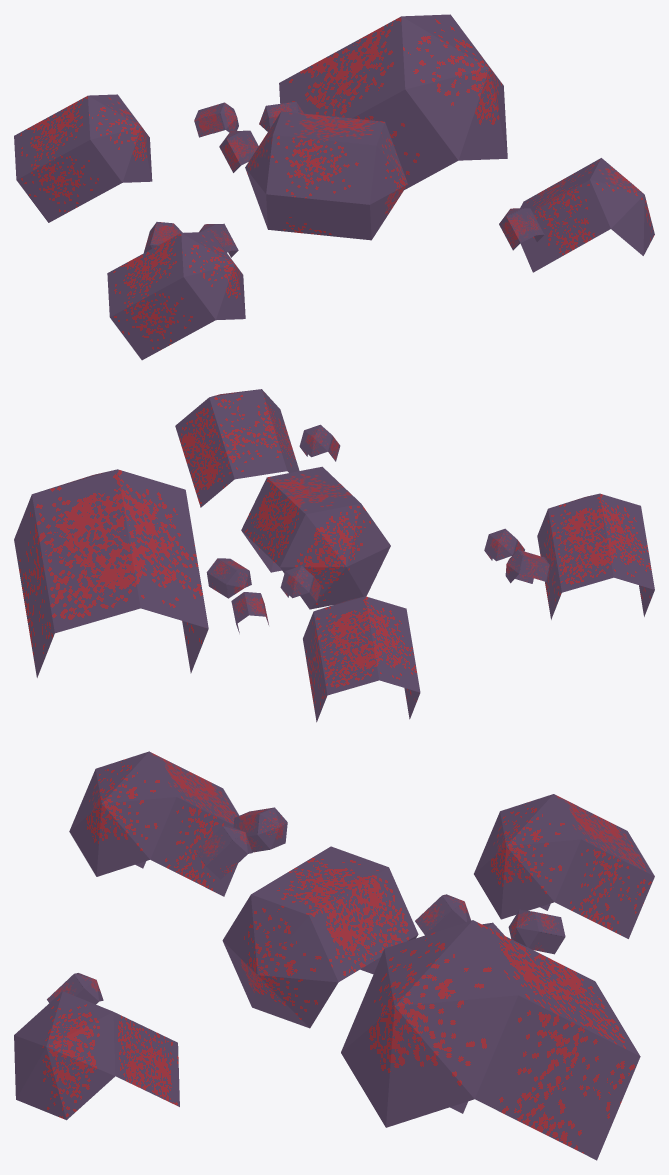
Rendered from ore_resource.glb.
3 renders of one model, top to bottom at view 1: azimuth 30°, elevation 25°; view 2: azimuth 150°, elevation 25°; view 3: azimuth 270°, elevation 25°, orthographic. The views are drawn at different scales.
Visible parts, largest first — view 1: ore_resource; view 2: ore_resource; view 3: ore_resource.
Part boxes in pixels (bbox=[...]): ore_resource: bbox=[14, 14, 654, 360]; ore_resource: bbox=[14, 389, 654, 722]; ore_resource: bbox=[14, 751, 654, 1160].
Bounding box in the file's own units: 3.99 × 1.41 × 3.47.
1 material, 1 textured.
